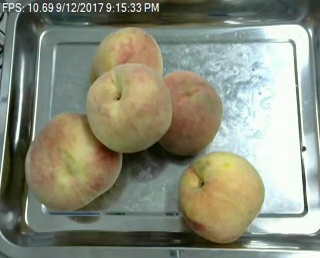Peach: (25, 110, 119, 211), (177, 151, 267, 243), (87, 60, 173, 153), (156, 70, 224, 154), (92, 28, 162, 86)
